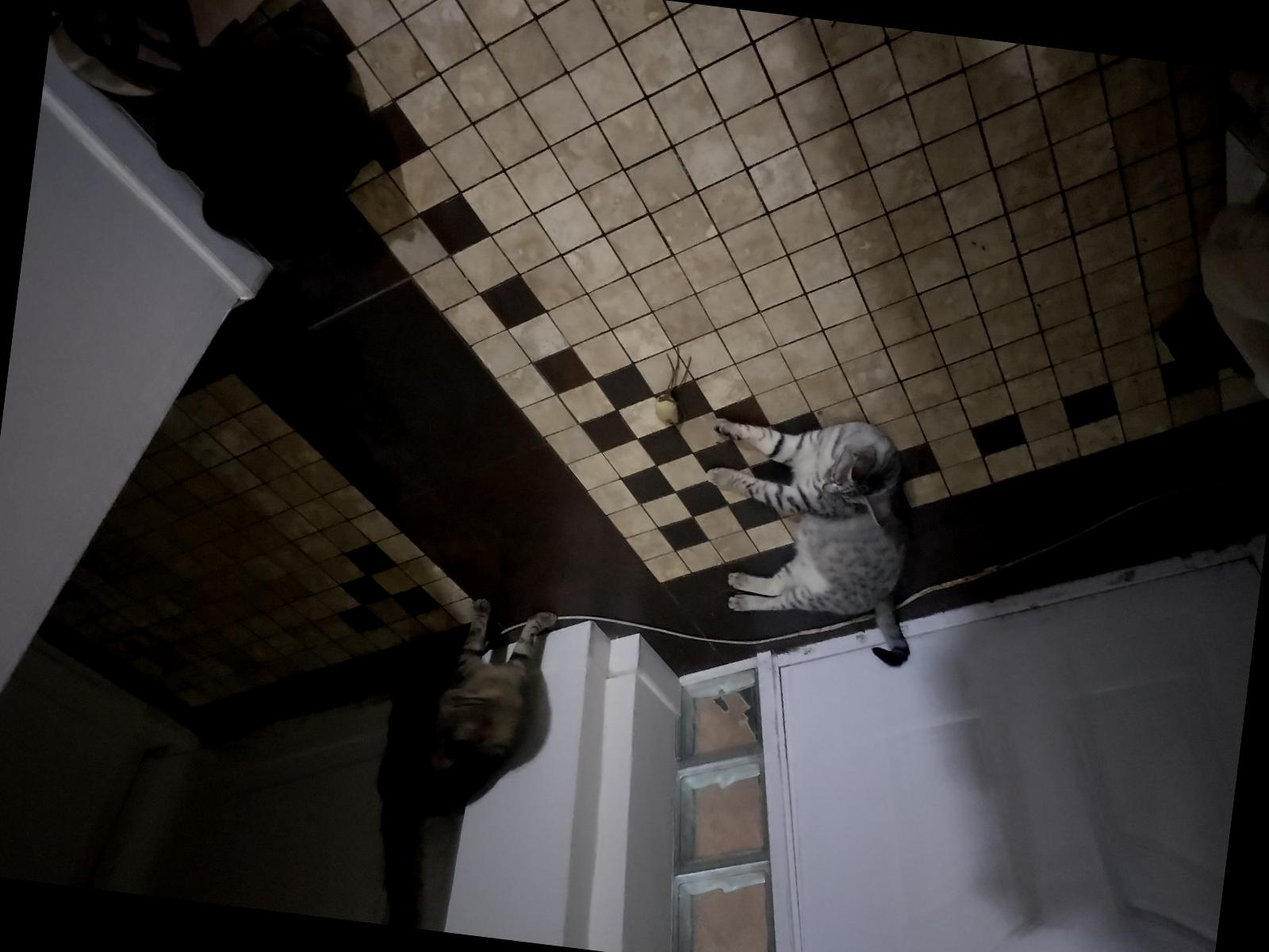macka: (357, 587, 562, 941), (686, 399, 942, 671)
